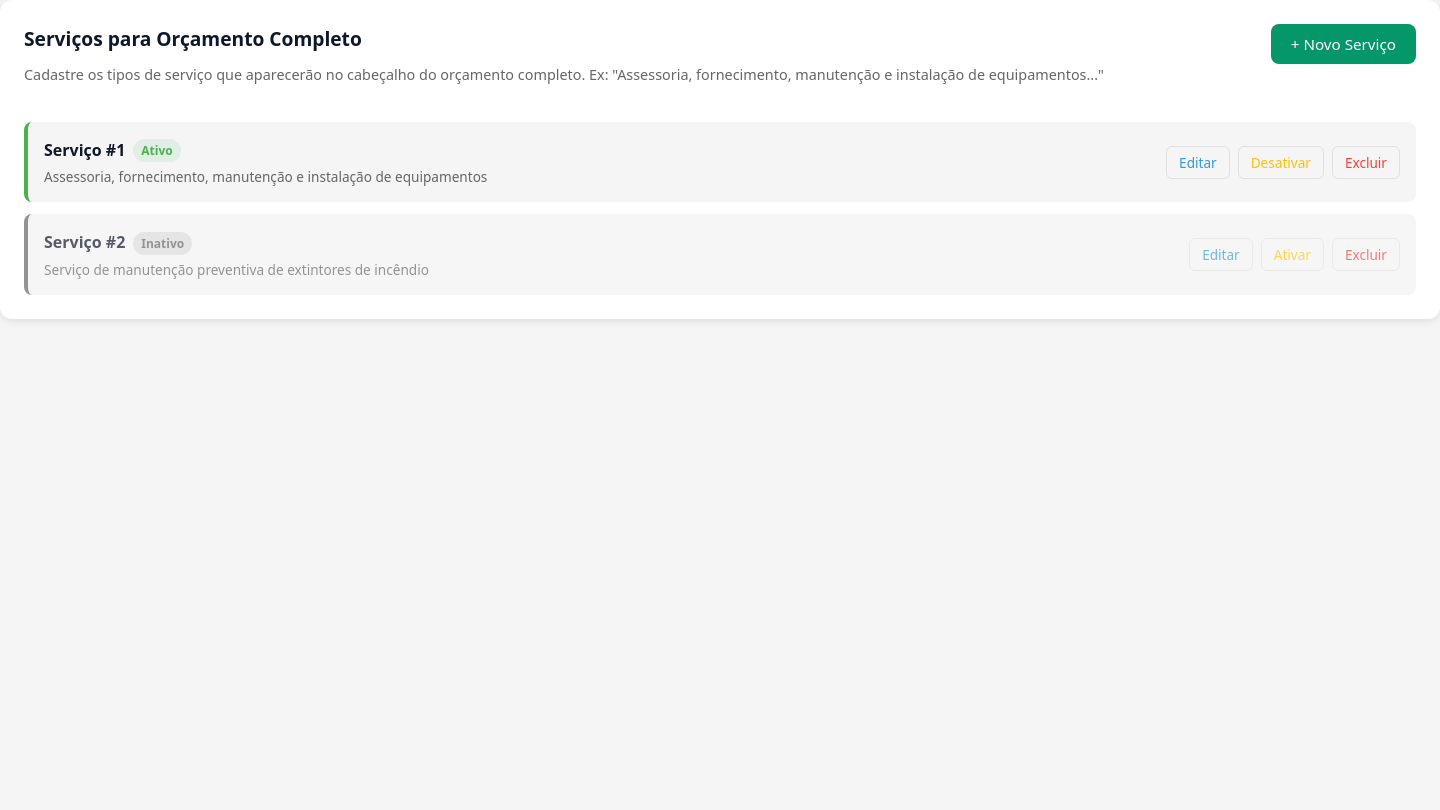
it: ServicosTab › Modal de novo serviço › deve abrir modal ao clicar em novo serviço
Click the button "+ Novo Serviço".
click(1343, 44)  # box [1271,24,1416,64]
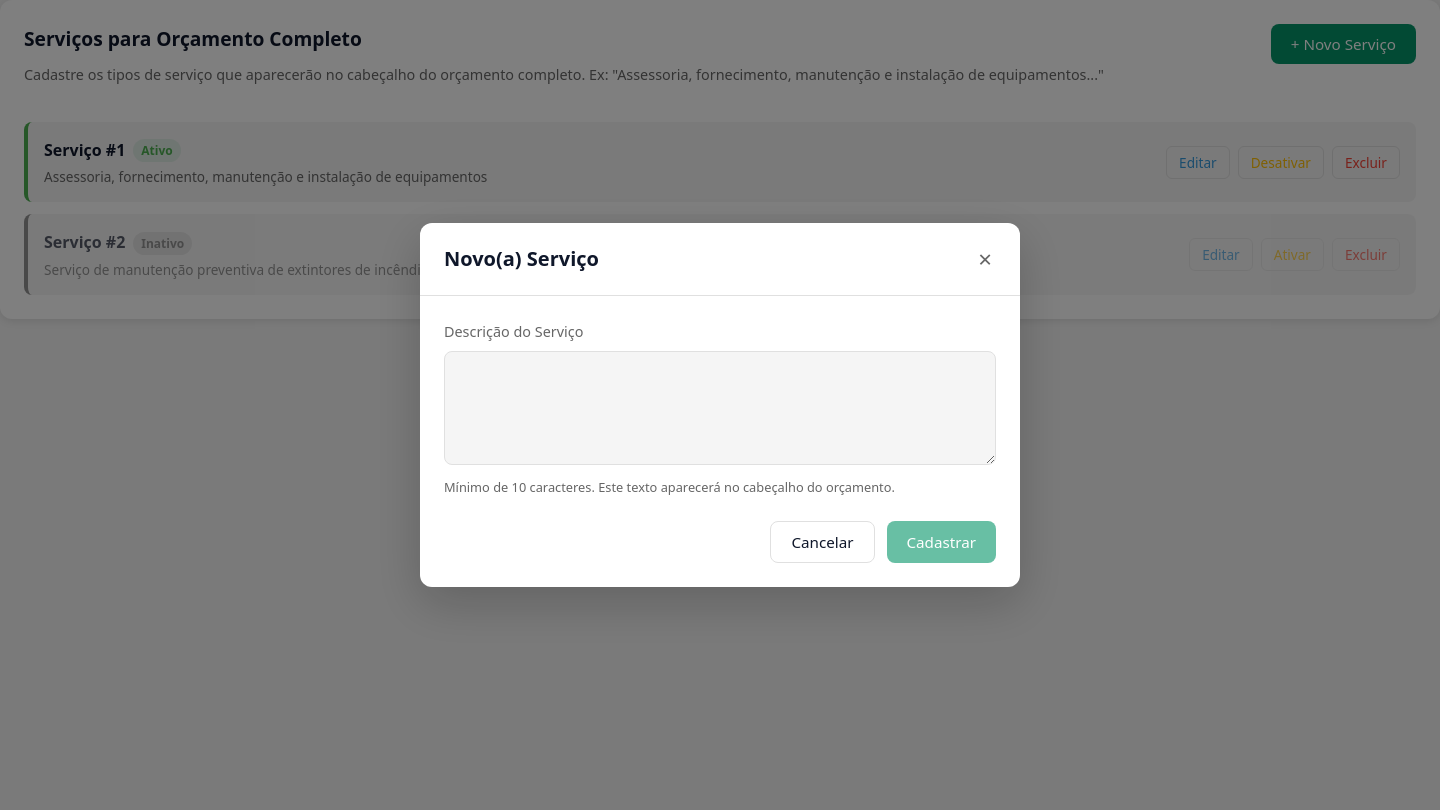
Check: the heading "Novo(a) Serviço" is shown, box [444,243,599,275]
Check: the text "Descrição do Serviço" is shown, box [444,322,583,341]
